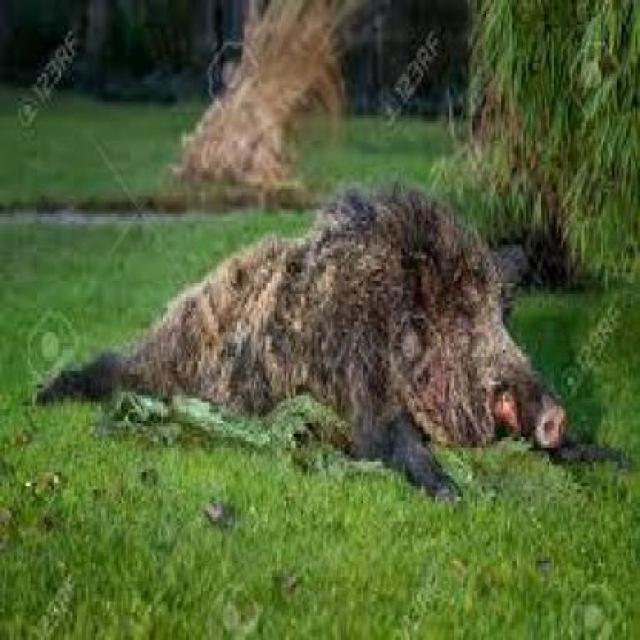wildboar: (31, 175, 574, 508)
